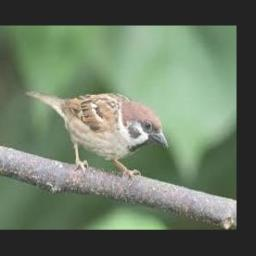Sparrow: (24, 90, 168, 179)
